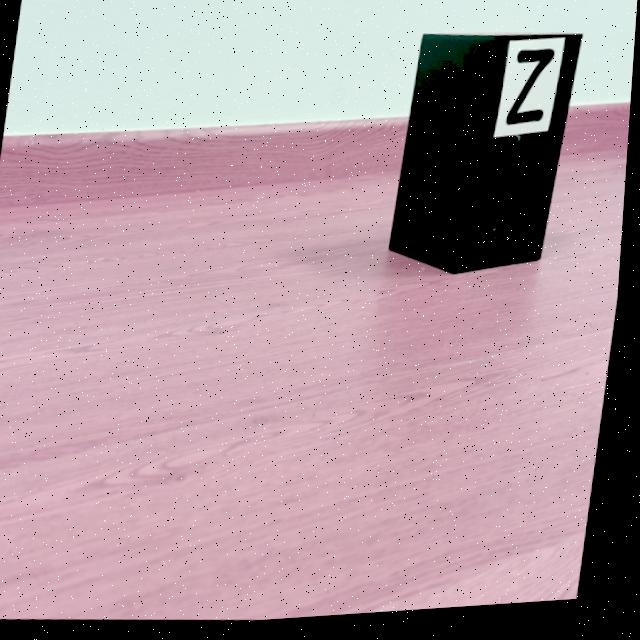Z: (507, 56, 556, 133)
